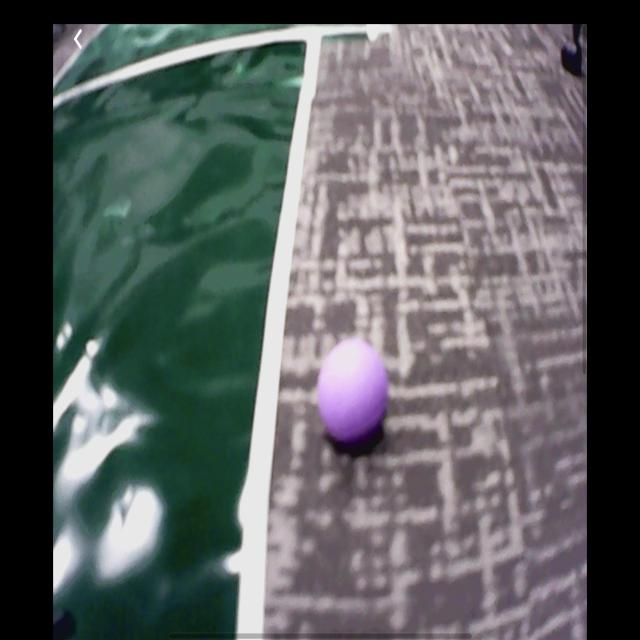ball: (317, 341, 388, 438)
